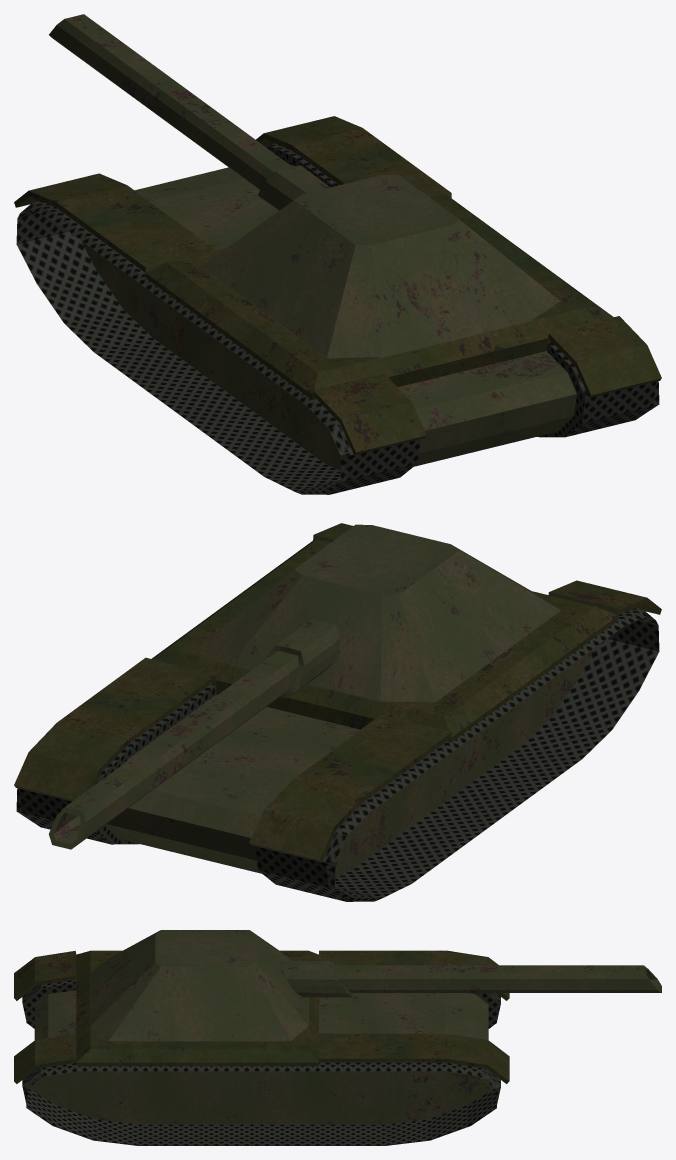
Rendered from EngincanStajCalısması8.fbx.
The picture shows the model from 3 angles, top to bottom: view 1: azimuth 30°, elevation 25°; view 2: azimuth 150°, elevation 25°; view 3: azimuth 270°, elevation 25°; orthographic projection. The views are drawn at different scales.
Visible parts, largest first — view 1: Cube; view 2: Cube; view 3: Cube.
Part boxes in pixels (x1=…): Cube: x1=14, y1=14, x2=661, y2=494; Cube: x1=14, y1=523, x2=661, y2=901; Cube: x1=14, y1=930, x2=661, y2=1145.
Size of the model in its own units: 606 by 360 by 1475.
